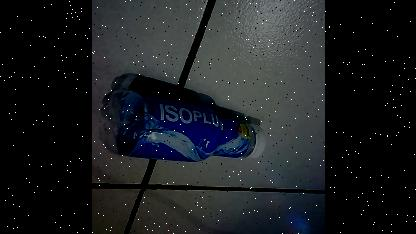Plastic Bottle: (94, 84, 270, 166)
